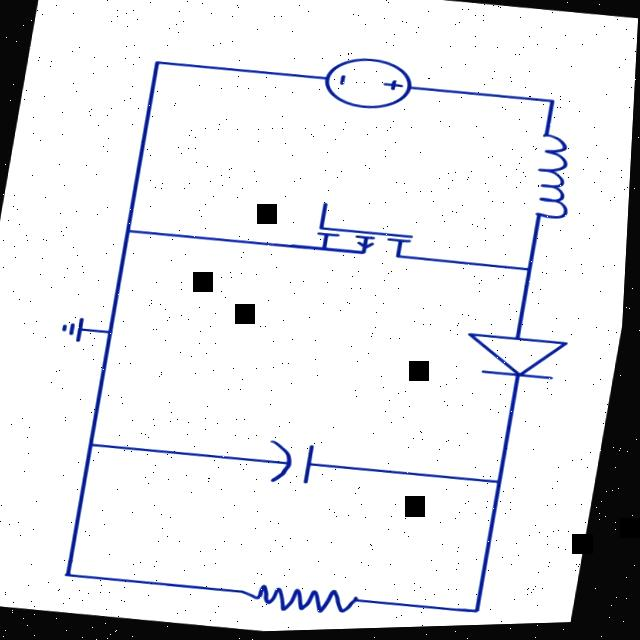capacitor: (252, 428, 349, 499)
diode: (456, 319, 588, 405)
ground: (50, 307, 105, 353)
inductor: (503, 125, 603, 241)
mosfet: (290, 192, 439, 285)
resistor: (225, 566, 388, 631)
source: (303, 46, 433, 127)
